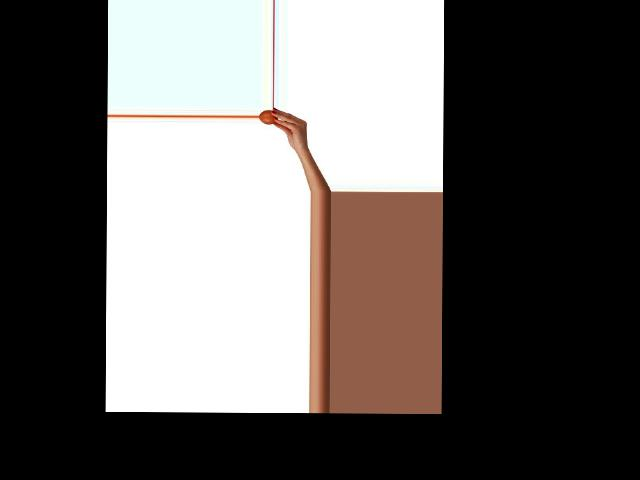egg: (259, 110, 277, 124)
